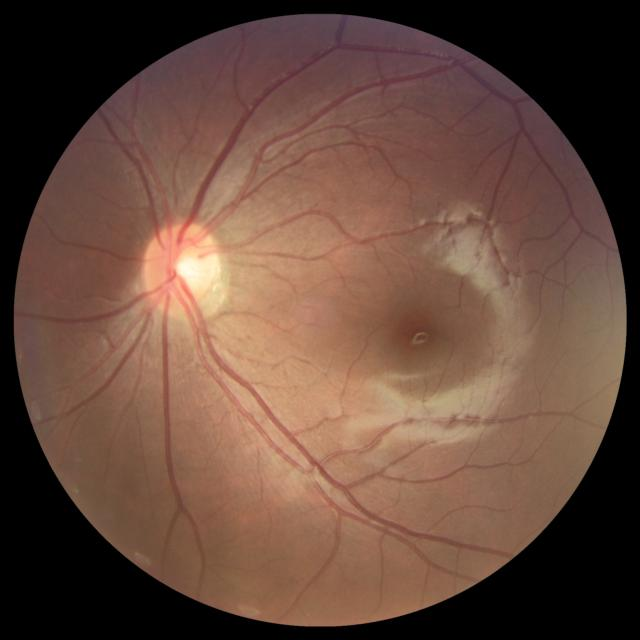OC: (161, 244, 204, 293)
OD: (140, 220, 222, 316)
